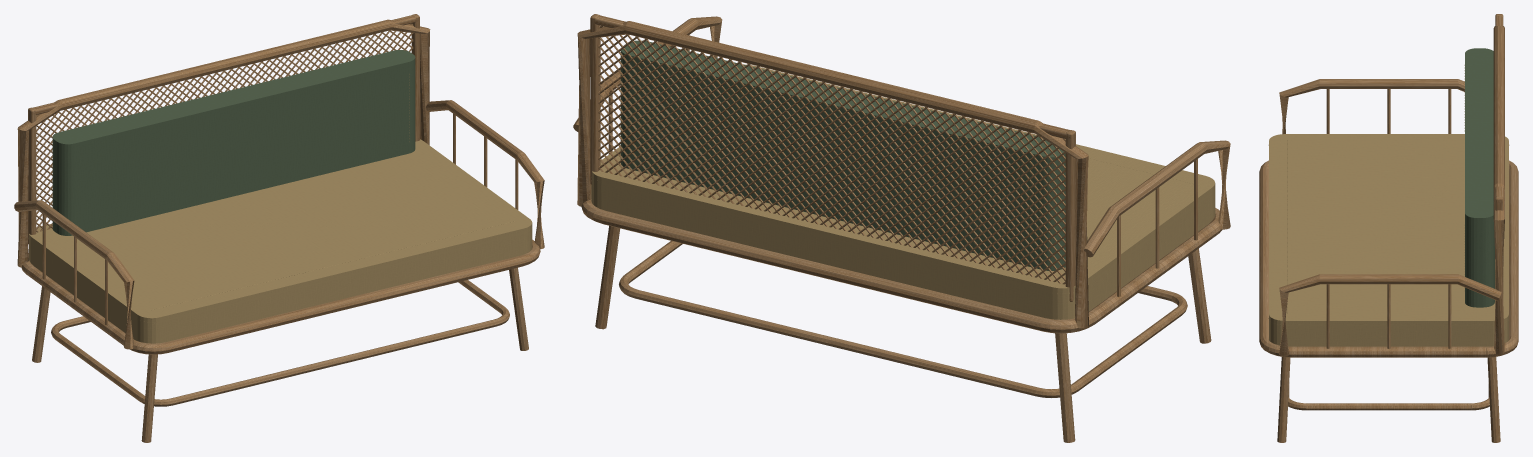
Rendered from designed-sunroom-loveseat.glb.
The picture shows the model from 3 angles, left to right: view 1: azimuth 30°, elevation 25°; view 2: azimuth 150°, elevation 25°; view 3: azimuth 270°, elevation 25°; orthographic projection. The views are drawn at different scales.
Visible parts, largest first — view 1: designed-sunroom-loveseat authored assembly; view 2: designed-sunroom-loveseat authored assembly; view 3: designed-sunroom-loveseat authored assembly.
Part boxes in pixels (x1,y1,x2,y2): designed-sunroom-loveseat authored assembly: [14, 14, 544, 442]; designed-sunroom-loveseat authored assembly: [573, 14, 1230, 442]; designed-sunroom-loveseat authored assembly: [1259, 14, 1518, 442].
Bounding box in the file's own units: 1.42 × 0.82 × 0.78.
5 materials, 4 textured.
